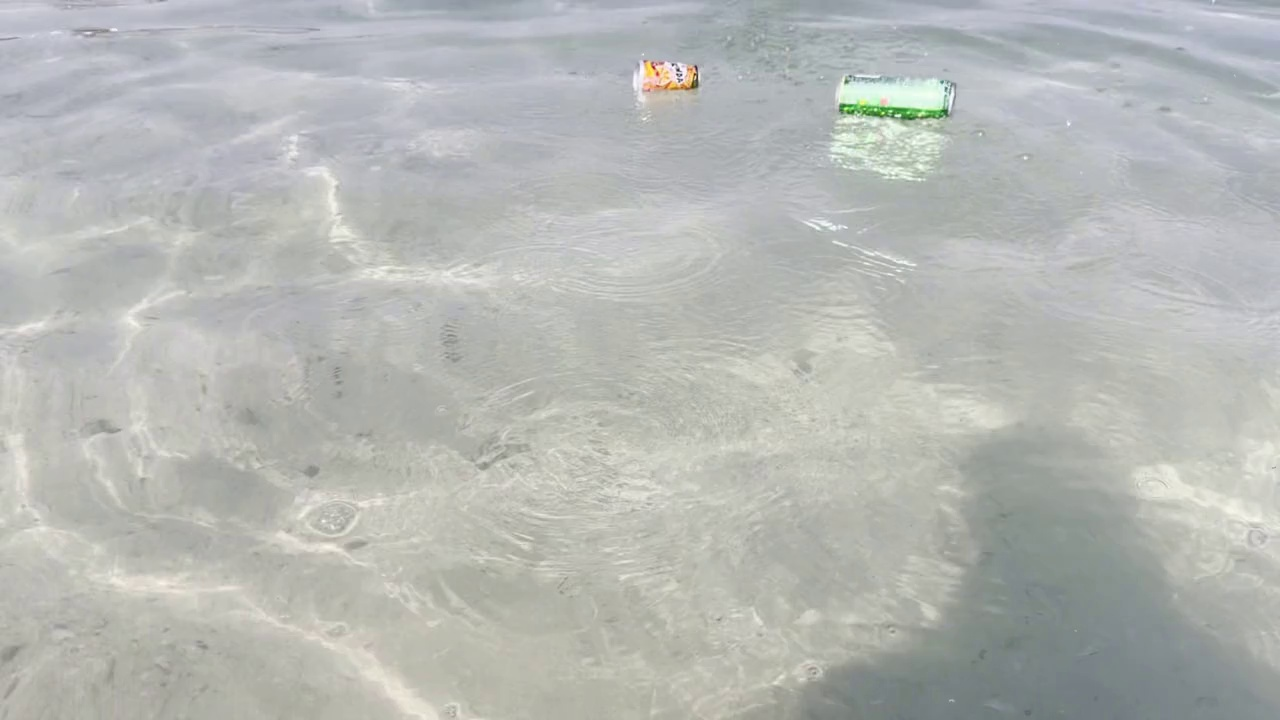debris: (822, 59, 965, 133), (628, 51, 706, 99)
